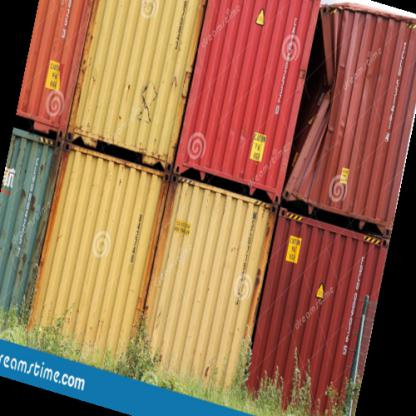Damage: (285, 11, 367, 175)
